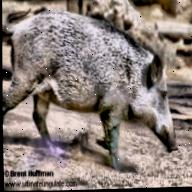boar: (6, 5, 188, 177)
